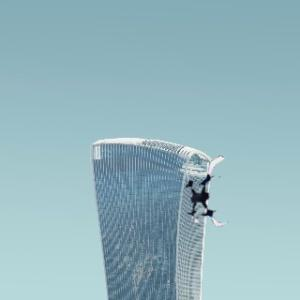drone: (173, 163, 243, 233)
